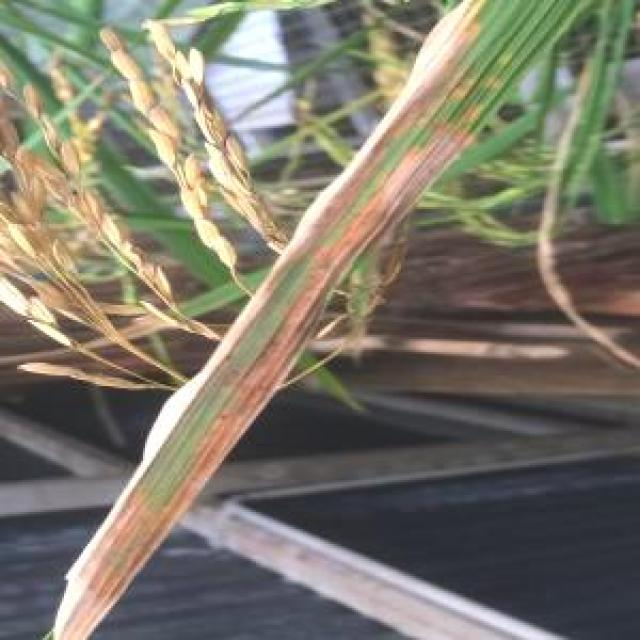Bacterial_Leaf_Blight: (98, 405, 203, 559)
